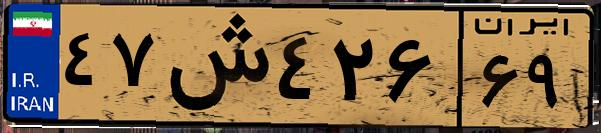2: (330, 28, 385, 110)
4: (270, 28, 330, 110), (57, 26, 110, 100)
6: (385, 28, 445, 110), (475, 38, 525, 113)
7: (110, 28, 158, 98)
9: (525, 38, 570, 115)
ش: (158, 12, 270, 120)
